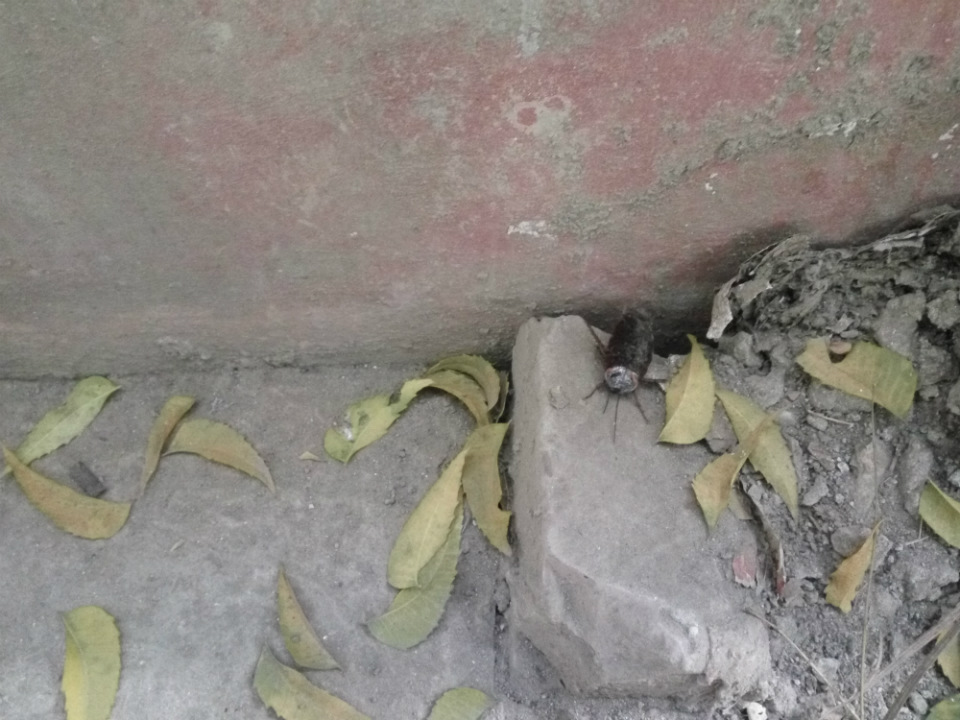cockroach: (534, 306, 678, 434)
